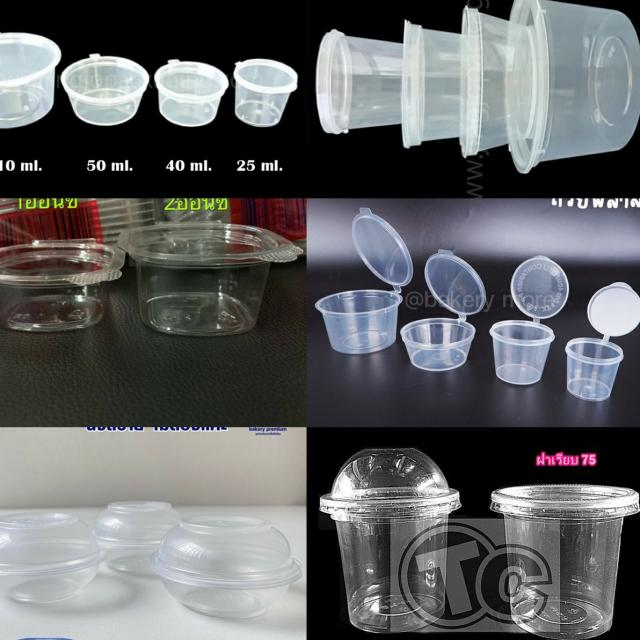plastik: (319, 448, 460, 633), (504, 0, 640, 173), (491, 484, 640, 639), (119, 223, 301, 335), (151, 515, 301, 618), (315, 208, 413, 354), (0, 240, 125, 332), (459, 7, 534, 157), (401, 250, 486, 371), (490, 255, 569, 385), (0, 513, 107, 604), (316, 30, 404, 134), (565, 282, 640, 401), (401, 20, 460, 148), (61, 54, 150, 125), (93, 501, 181, 572), (0, 32, 61, 127), (155, 59, 229, 126), (233, 59, 297, 126)
